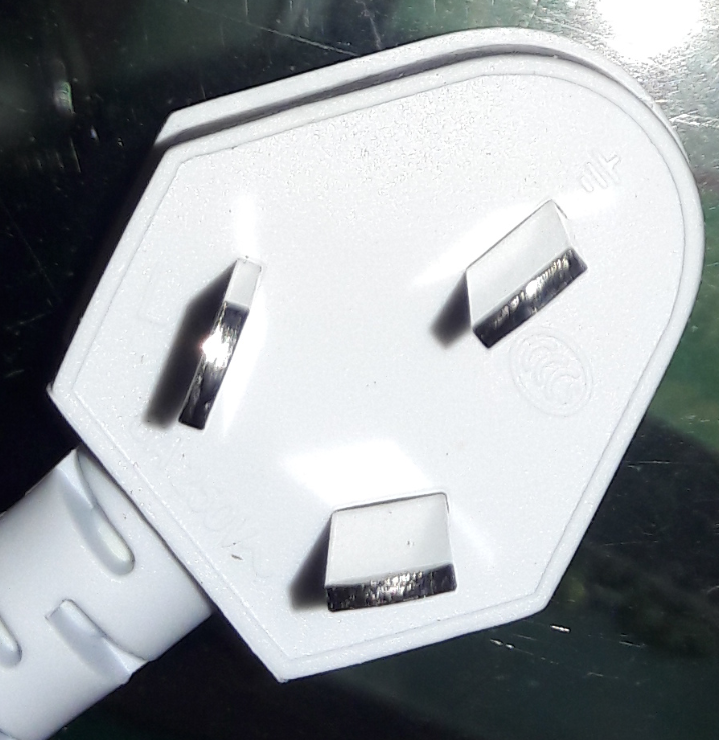Three_eye_plug: (44, 10, 711, 691)
